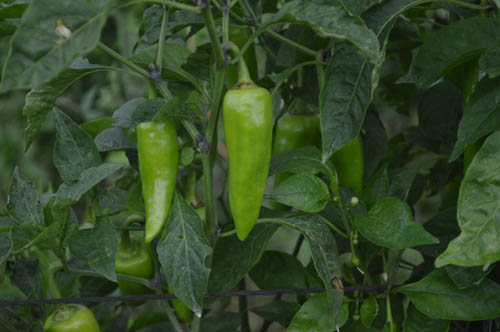ChiliPepper: (211, 80, 276, 243), (131, 120, 182, 248), (273, 92, 321, 218), (322, 116, 369, 196), (108, 238, 158, 310), (36, 304, 100, 332), (167, 280, 194, 327)
